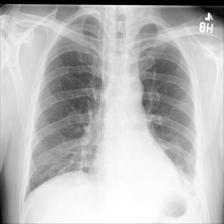normal: (22, 14, 202, 201)
